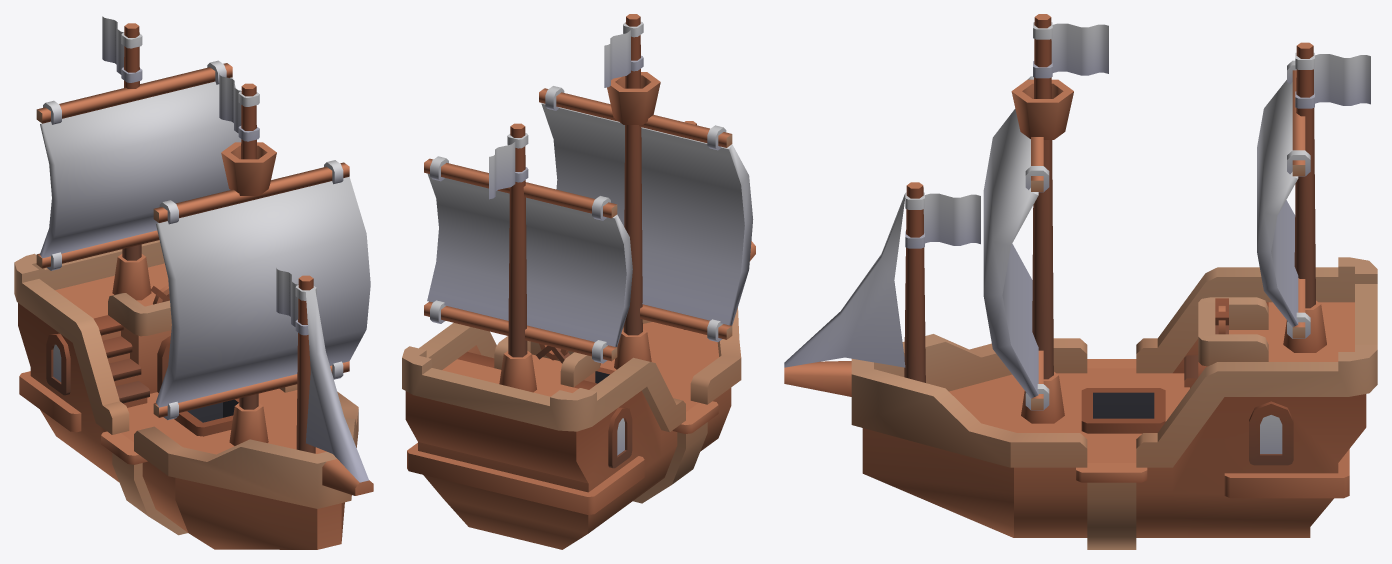
Rendered from ship-medium.glb.
3 views of the same model, side by side, from view 1: azimuth 30°, elevation 25°; view 2: azimuth 150°, elevation 25°; view 3: azimuth 270°, elevation 25° (orthographic). The views are drawn at different scales.
Visible parts, largest first — view 1: ship-medium; view 2: ship-medium; view 3: ship-medium.
Boxes of the visible parts, bbox=[...] form: ship-medium: bbox=[14, 16, 373, 549]; ship-medium: bbox=[402, 14, 755, 549]; ship-medium: bbox=[784, 14, 1377, 549].
Bounding box in the file's own units: 4.8 × 9.96 × 10.6.
